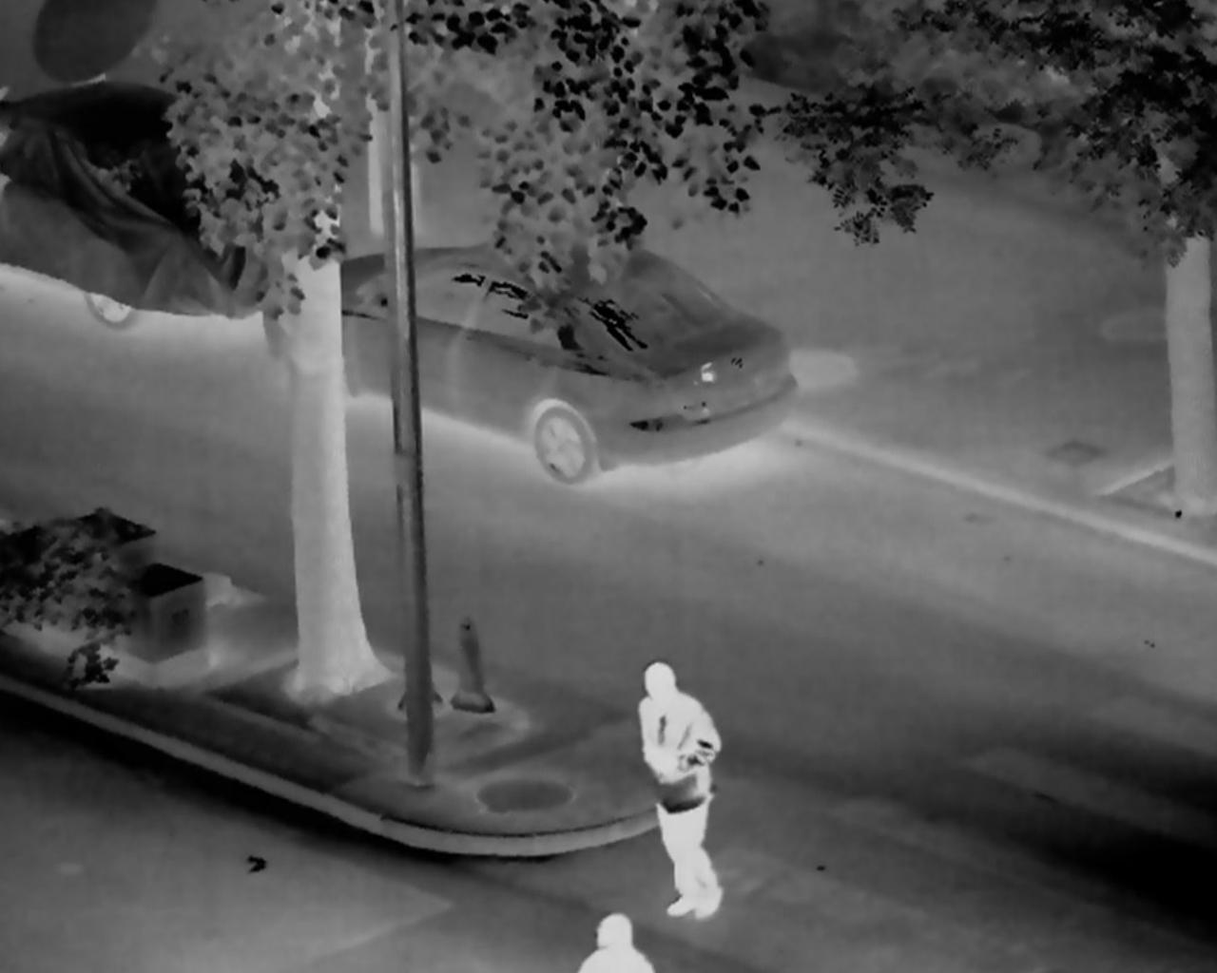person: (628, 661, 724, 921), (575, 916, 651, 973)
